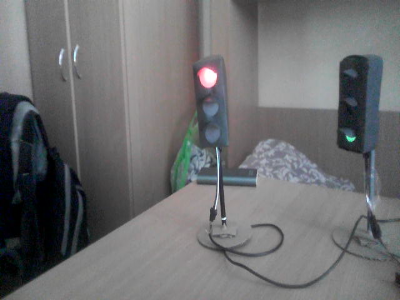trafficlight_green: (337, 56, 369, 149)
trafficlight_red: (194, 60, 227, 144)
